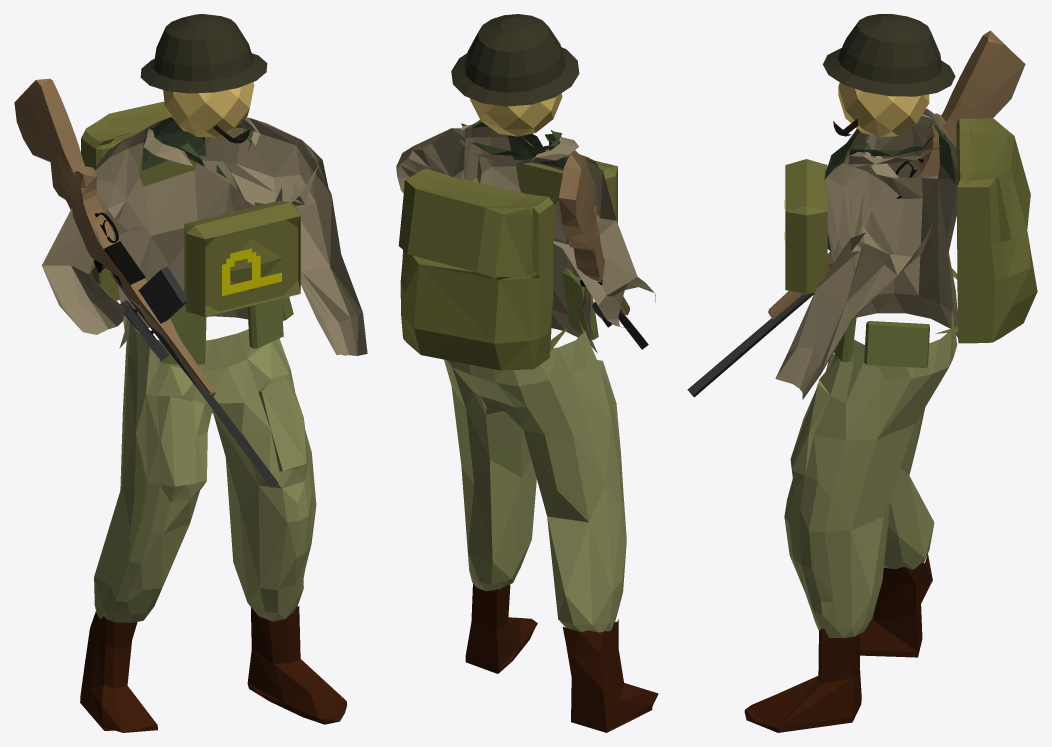
The model's file is Paratroopers.glb.
3 renders of one model, left to right at view 1: azimuth 30°, elevation 25°; view 2: azimuth 150°, elevation 25°; view 3: azimuth 270°, elevation 25°, orthographic.
Parts seen in each view (by area): view 1: pants_Circle.002, jacket_Circle.003, Cube.004_Cube.005, Plane_Plane.005, hat_Circle.014, shoe_left_Plane.001, shoe_right_Plane, back_parachute_Cube.001, Sphere_Sphere.001, shirt_Circle.000, Cube.001, Cylinder.001_Cylinder.002 (+5 smaller); view 2: pants_Circle.002, back_parachute_Cube.001, jacket_Circle.003, hat_Circle.014, shoe_right_Plane, shoe_left_Plane.001, Plane_Plane.005, Sphere_Sphere.001, Cube.004_Cube.005, shirt_Circle.000, Cube.001_Cube.002; view 3: pants_Circle.002, jacket_Circle.003, back_parachute_Cube.001, hat_Circle.014, shoe_left_Plane.001, Plane_Plane.005, Cube.004_Cube.005, shoe_right_Plane, Sphere_Sphere.001, Cube.003_Cube.007, Cylinder.001_Cylinder.002, shirt_Circle.000.
Part boxes in pixels (bbox=[...]): pants_Circle.002: bbox=[94, 322, 316, 622]; jacket_Circle.003: bbox=[42, 117, 367, 355]; Cube.004_Cube.005: bbox=[184, 200, 300, 316]; Plane_Plane.005: bbox=[14, 78, 215, 397]; hat_Circle.014: bbox=[140, 14, 267, 93]; shoe_left_Plane.001: bbox=[247, 606, 346, 724]; shoe_right_Plane: bbox=[80, 611, 157, 732]; back_parachute_Cube.001: bbox=[81, 101, 196, 300]; Sphere_Sphere.001: bbox=[163, 82, 254, 137]; shirt_Circle.000: bbox=[142, 117, 252, 178]; Cube.001: bbox=[138, 266, 188, 323]; Cylinder.001_Cylinder.002: bbox=[110, 273, 278, 487]; pants_Circle.002: bbox=[444, 323, 626, 632]; back_parachute_Cube.001: bbox=[398, 168, 553, 370]; jacket_Circle.003: bbox=[396, 121, 655, 353]; hat_Circle.014: bbox=[451, 14, 579, 106]; shoe_right_Plane: bbox=[562, 619, 658, 732]; shoe_left_Plane.001: bbox=[465, 584, 537, 673]; Plane_Plane.005: bbox=[559, 153, 629, 315]; Sphere_Sphere.001: bbox=[470, 93, 562, 136]; Cube.004_Cube.005: bbox=[516, 149, 617, 223]; shirt_Circle.000: bbox=[469, 120, 567, 168]; Cube.001_Cube.002: bbox=[561, 268, 598, 340]; pants_Circle.002: bbox=[784, 309, 957, 638]; jacket_Circle.003: bbox=[775, 108, 957, 399]; back_parachute_Cube.001: bbox=[956, 117, 1037, 343]; hat_Circle.014: bbox=[823, 14, 955, 96]; shoe_left_Plane.001: bbox=[744, 628, 861, 732]; Plane_Plane.005: bbox=[768, 30, 1025, 319]; Cube.004_Cube.005: bbox=[785, 159, 827, 294]; shoe_right_Plane: bbox=[860, 554, 932, 657]; Sphere_Sphere.001: bbox=[838, 82, 929, 137]; Cube.003_Cube.007: bbox=[864, 321, 929, 368]; Cylinder.001_Cylinder.002: bbox=[687, 293, 814, 397]; shirt_Circle.000: bbox=[824, 117, 955, 183].
Size of the model in its own units: 0.9683 by 2.41 by 1.14.
